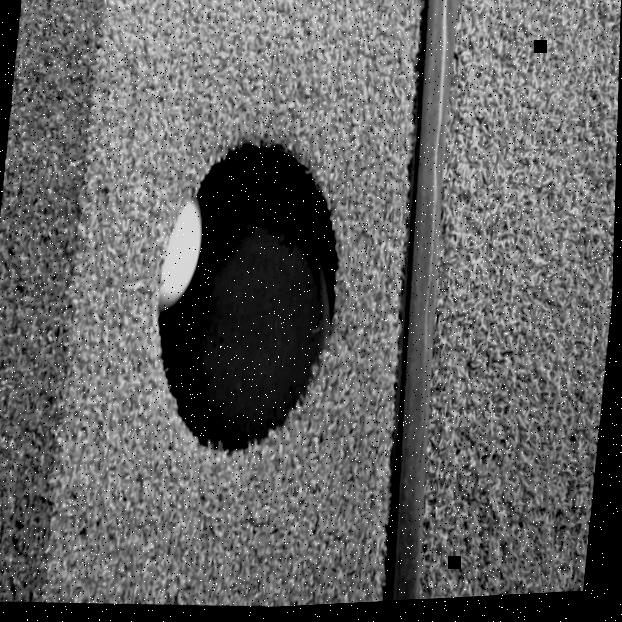GolfBall: (158, 191, 214, 317)
